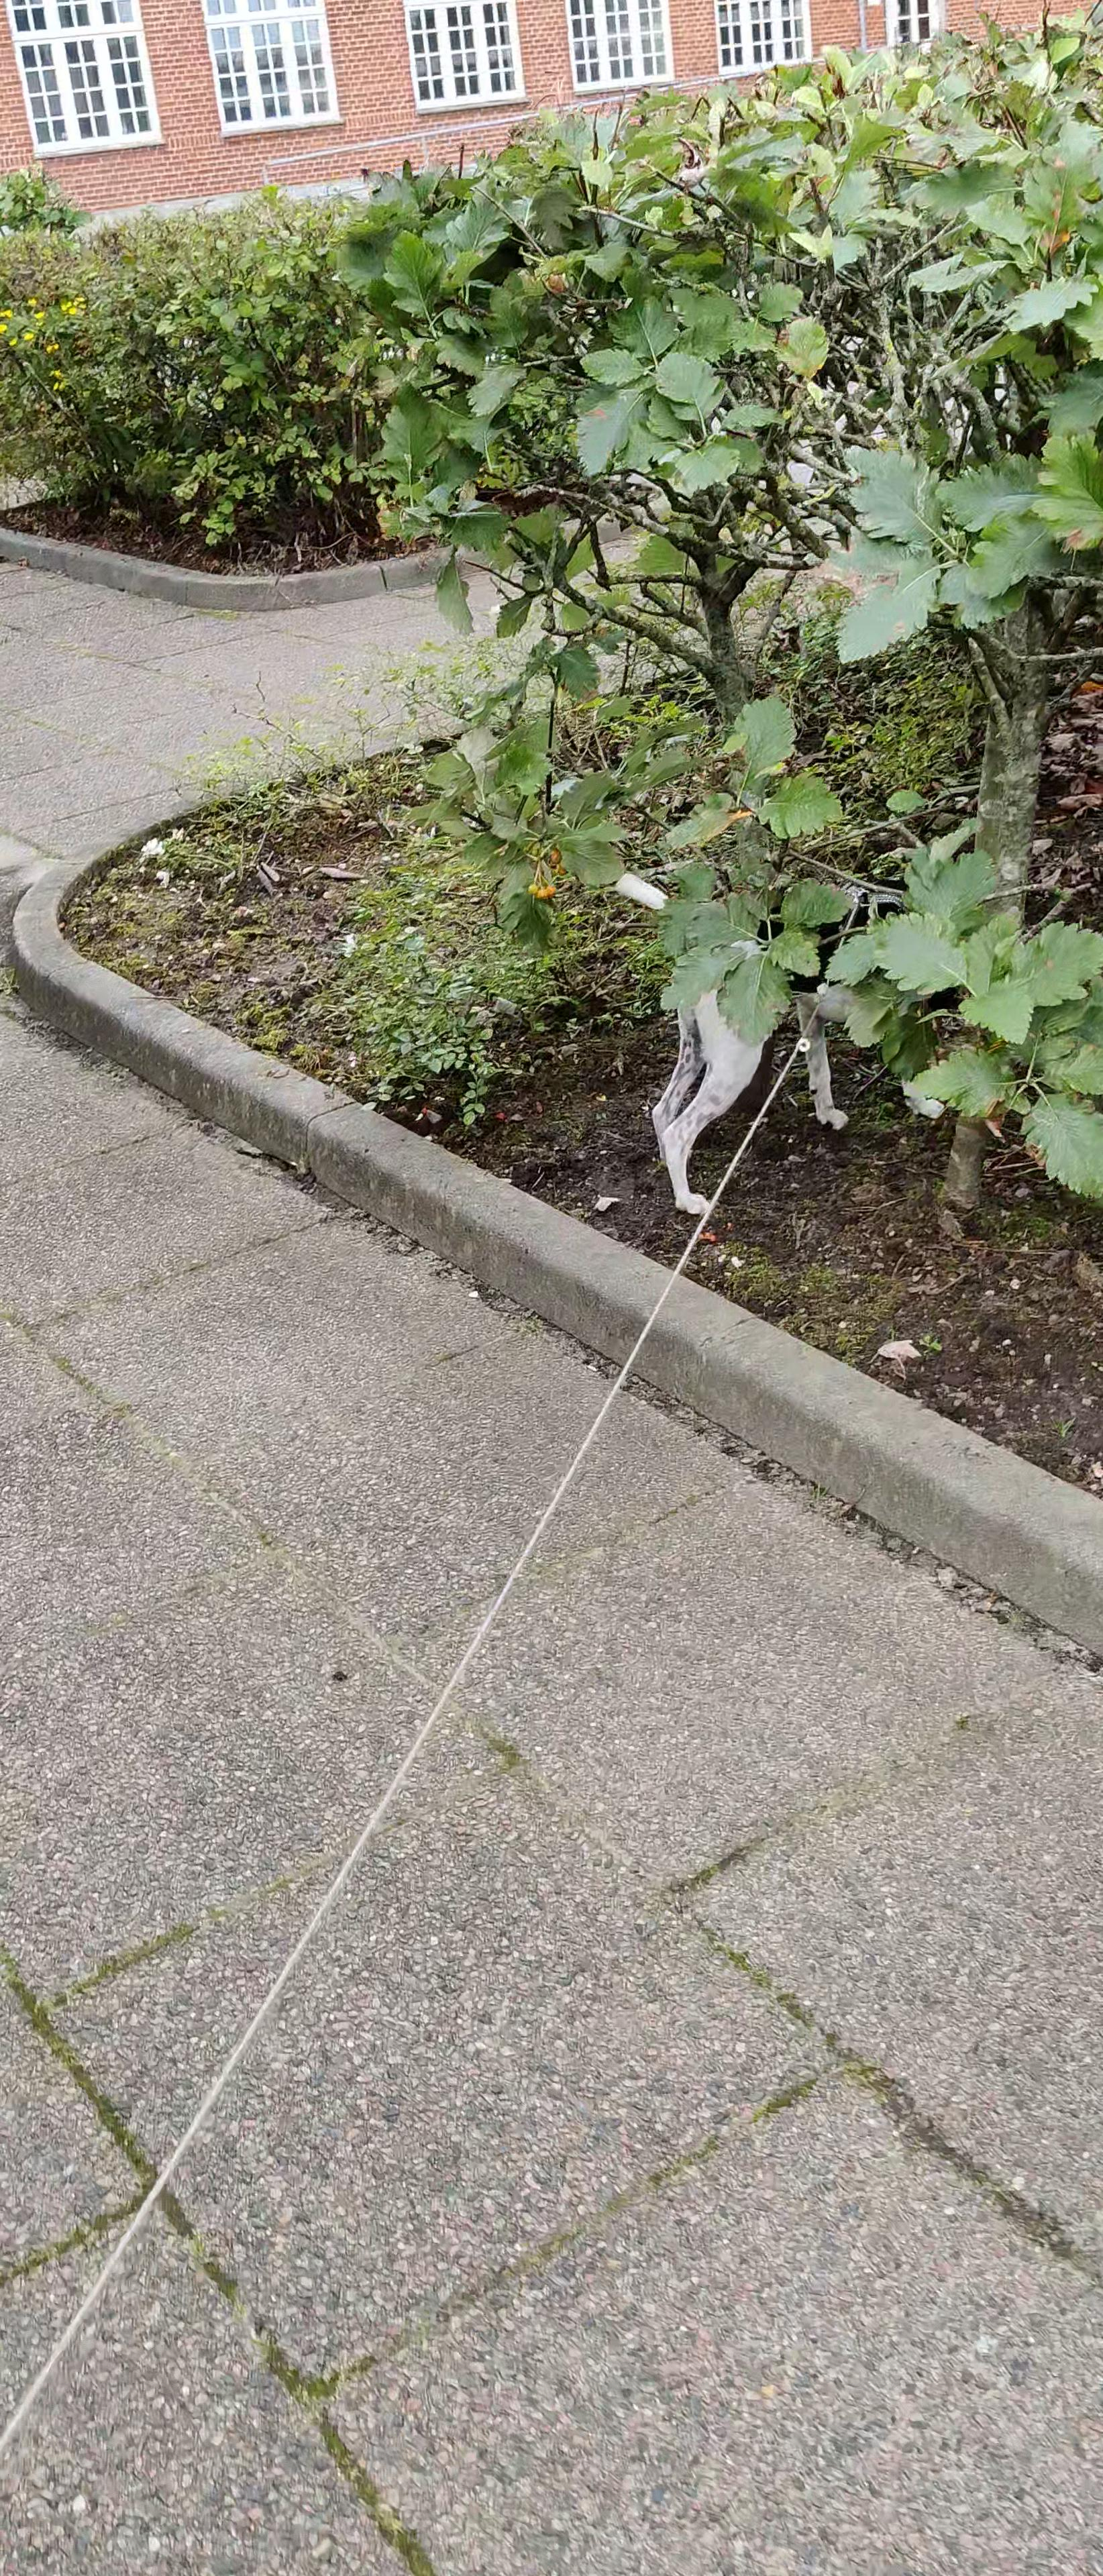Dog: (608, 866, 960, 1214)
